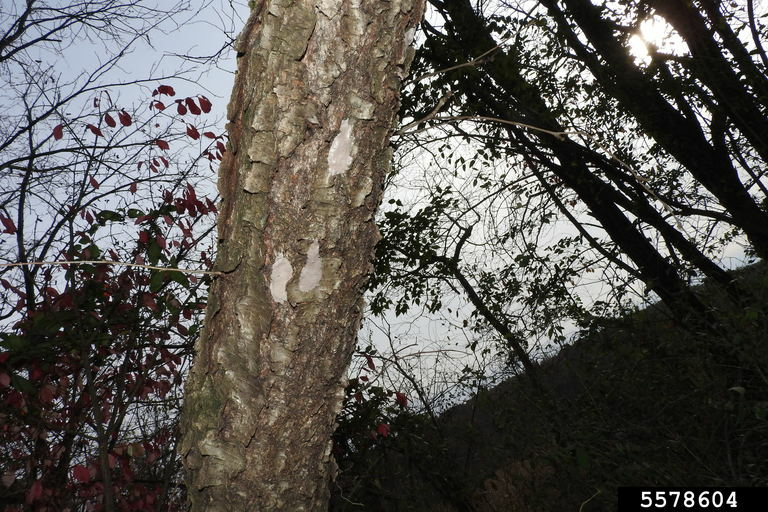egg masses: (314, 103, 362, 191), (256, 239, 296, 317), (298, 227, 329, 302)
